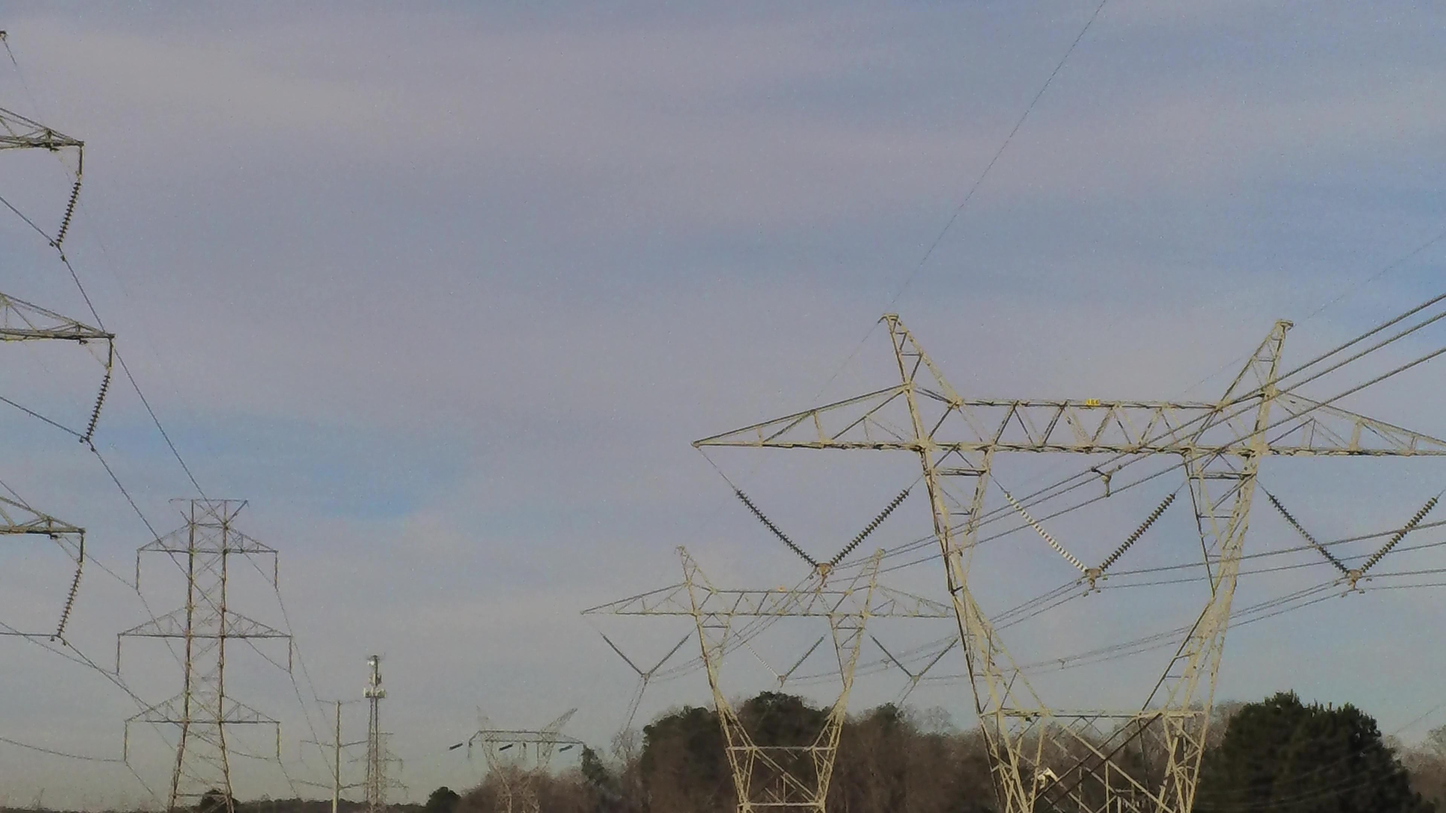power_tower: (691, 315, 1446, 813), (581, 544, 960, 813), (0, 22, 117, 651), (117, 501, 291, 811), (449, 705, 588, 812), (352, 729, 404, 813)
